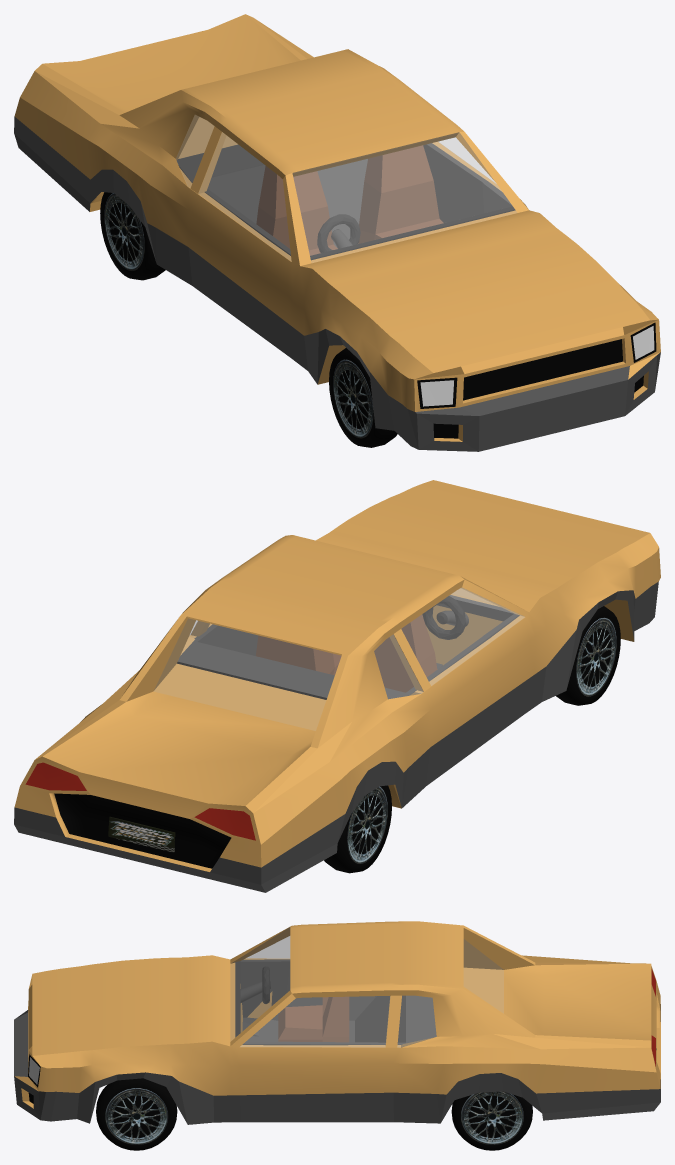
File: DE-VILLE.fbx
3 renders of one model, top to bottom at view 1: azimuth 30°, elevation 25°; view 2: azimuth 150°, elevation 25°; view 3: azimuth 270°, elevation 25°, orthographic. The views are drawn at different scales.
Visible parts, largest first — view 1: deville, front_right.002, back_right.002, steeringwheel.001; view 2: deville, front_right.002, back_right.002, number_plate.001, steeringwheel.001; view 3: deville, front_left.002, back_left.002.
Part boxes in pixels (x1,y1,x2,y2): deville: (14, 14, 660, 451); front_right.002: (329, 348, 397, 447); back_right.002: (100, 192, 165, 280); steeringwheel.001: (317, 214, 360, 252); deville: (14, 480, 660, 892); front_right.002: (556, 606, 620, 705); back_right.002: (324, 785, 391, 873); number_plate.001: (108, 816, 175, 852); steeringwheel.001: (422, 596, 465, 639); deville: (14, 921, 660, 1124); front_left.002: (96, 1078, 177, 1150); back_left.002: (451, 1091, 532, 1150).
Bounding box in the file's own units: 331 × 121 × 87.24.
